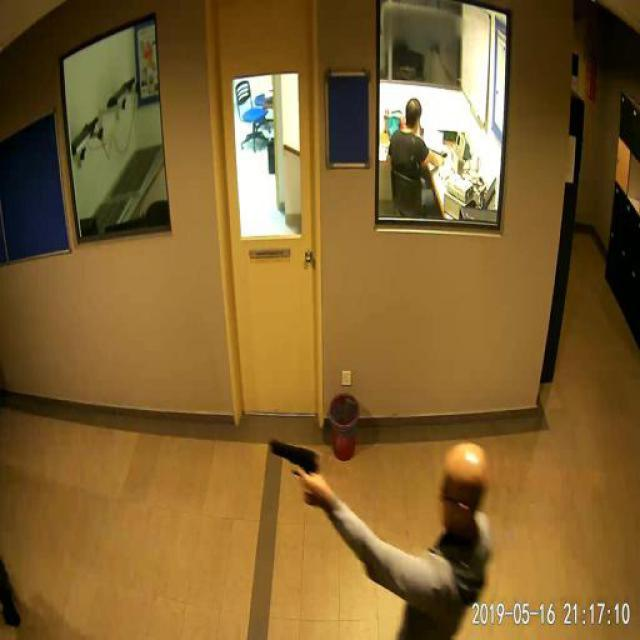weapon: (266, 438, 328, 514)
